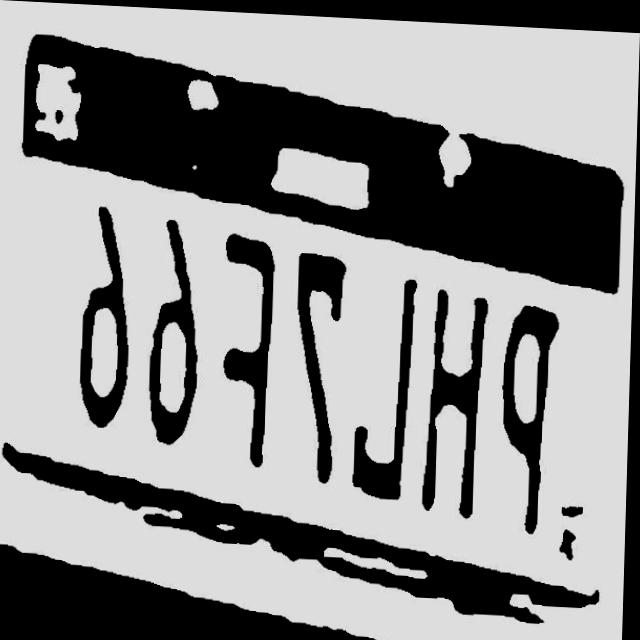6: (146, 216, 205, 446), (79, 203, 138, 427)
7: (292, 245, 349, 482)
f: (220, 230, 279, 467)
h: (422, 281, 492, 515)
l: (355, 270, 417, 497)
p: (498, 297, 567, 531)
